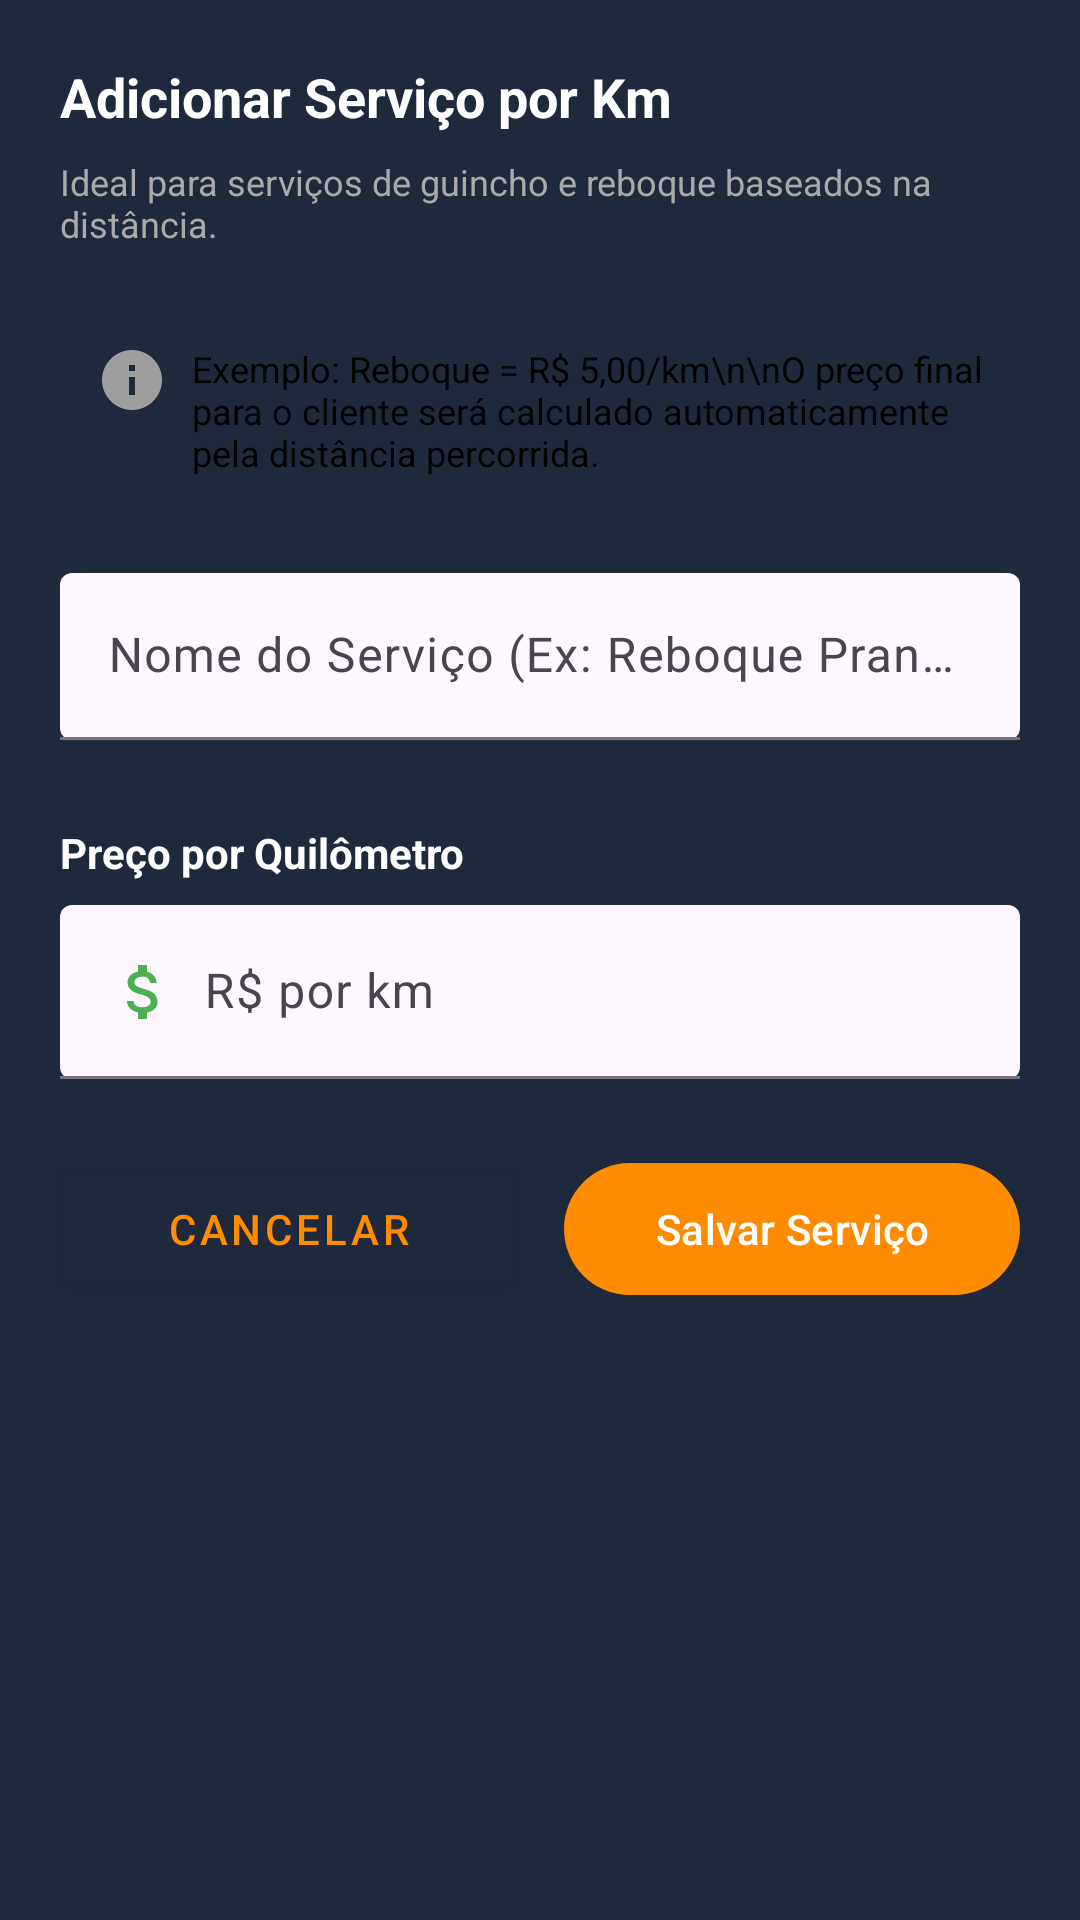

Named icons in this screenshot (1080*1920) and their bounding boxes, (x1, y1, x2, y2):
Info: (102, 350, 162, 410)
